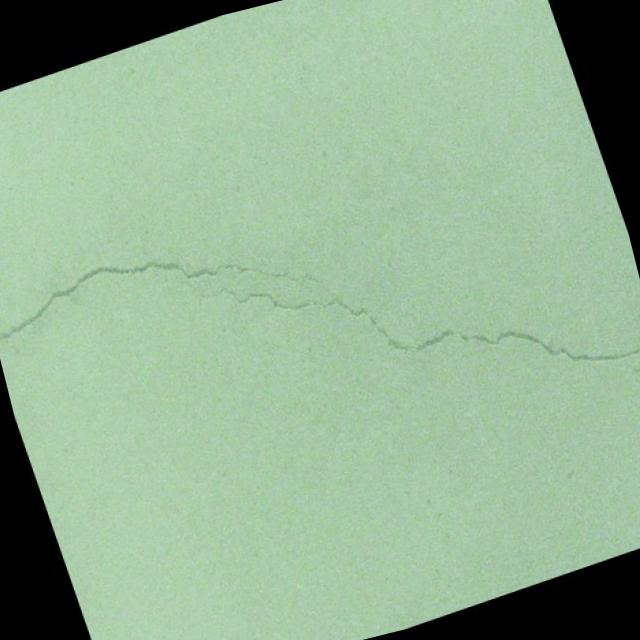crack: (0, 90, 640, 560), (613, 348, 640, 391), (0, 344, 1, 351)
